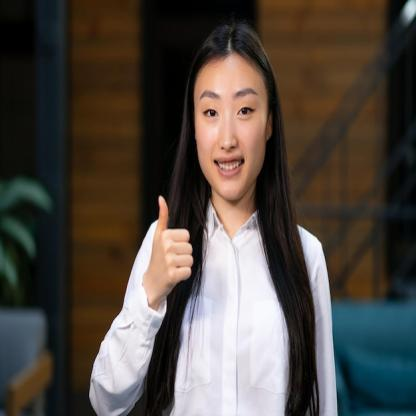thumb_up: (142, 190, 194, 296)
